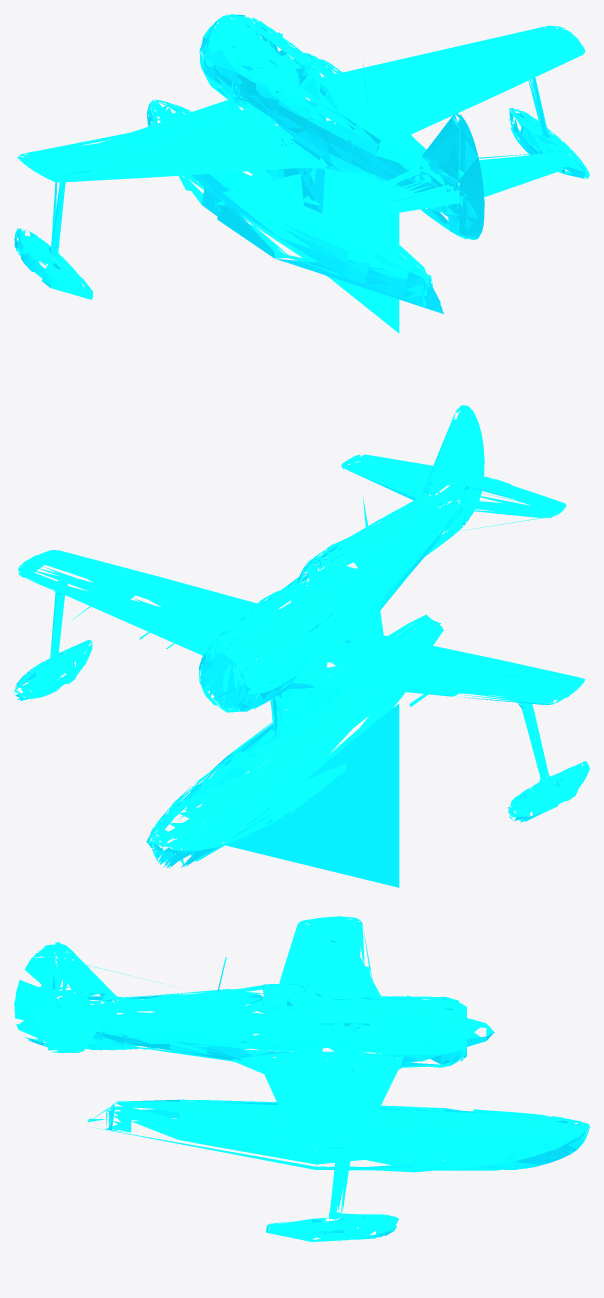
Rendered from PRAF906.glb.
3 views of the same model, one above another, from view 1: azimuth 30°, elevation 25°; view 2: azimuth 150°, elevation 25°; view 3: azimuth 270°, elevation 25° (orthographic). The views are drawn at different scales.
Visible parts, largest first — view 1: misc; view 2: misc; view 3: misc.
Part boxes in pixels (box(x1,y1,x2,y2)): misc: box(14, 14, 589, 333); misc: box(14, 405, 589, 887); misc: box(14, 916, 589, 1241).
Size of the model in its own units: 0.6515 by 0.4001 by 0.6872.
